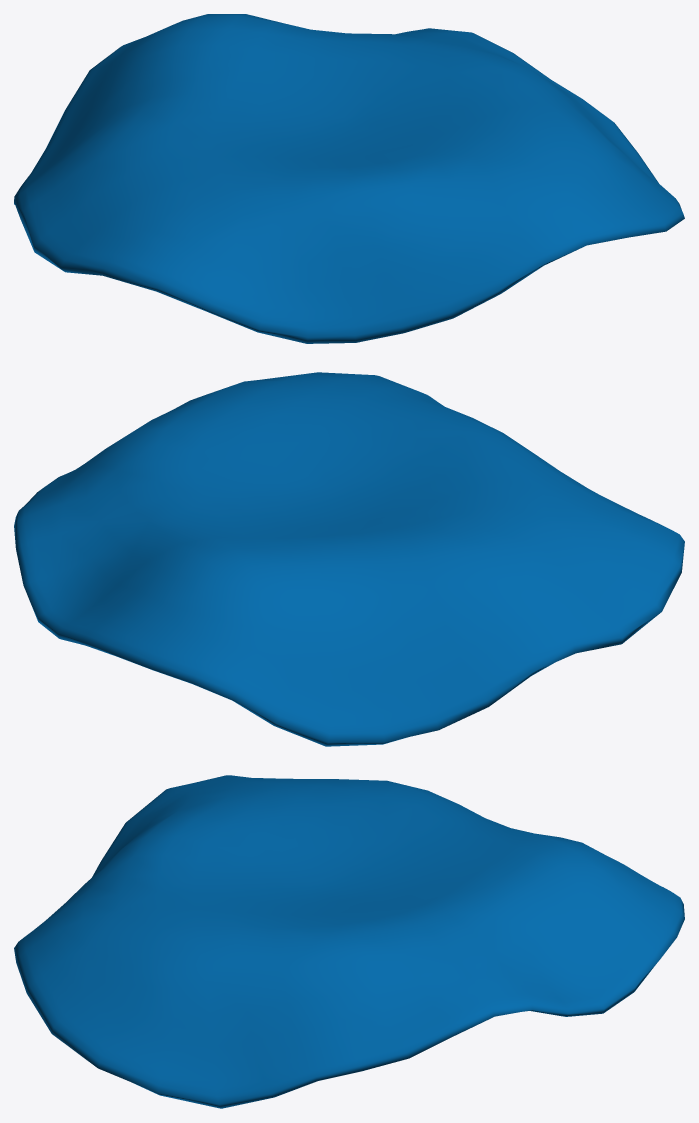
The picture shows the model from 3 angles, top to bottom: view 1: azimuth 30°, elevation 25°; view 2: azimuth 150°, elevation 25°; view 3: azimuth 270°, elevation 25°; orthographic projection. The views are drawn at different scales.
Parts seen in each view (by area): view 1: coral_plane_2_retop; view 2: coral_plane_2_retop; view 3: coral_plane_2_retop.
Boxes of the visible parts, x1,y1,x2,y2 form: coral_plane_2_retop: [14, 14, 684, 343]; coral_plane_2_retop: [14, 372, 684, 746]; coral_plane_2_retop: [14, 775, 684, 1108].
Size of the model in its own units: 109 by 23.32 by 108.
